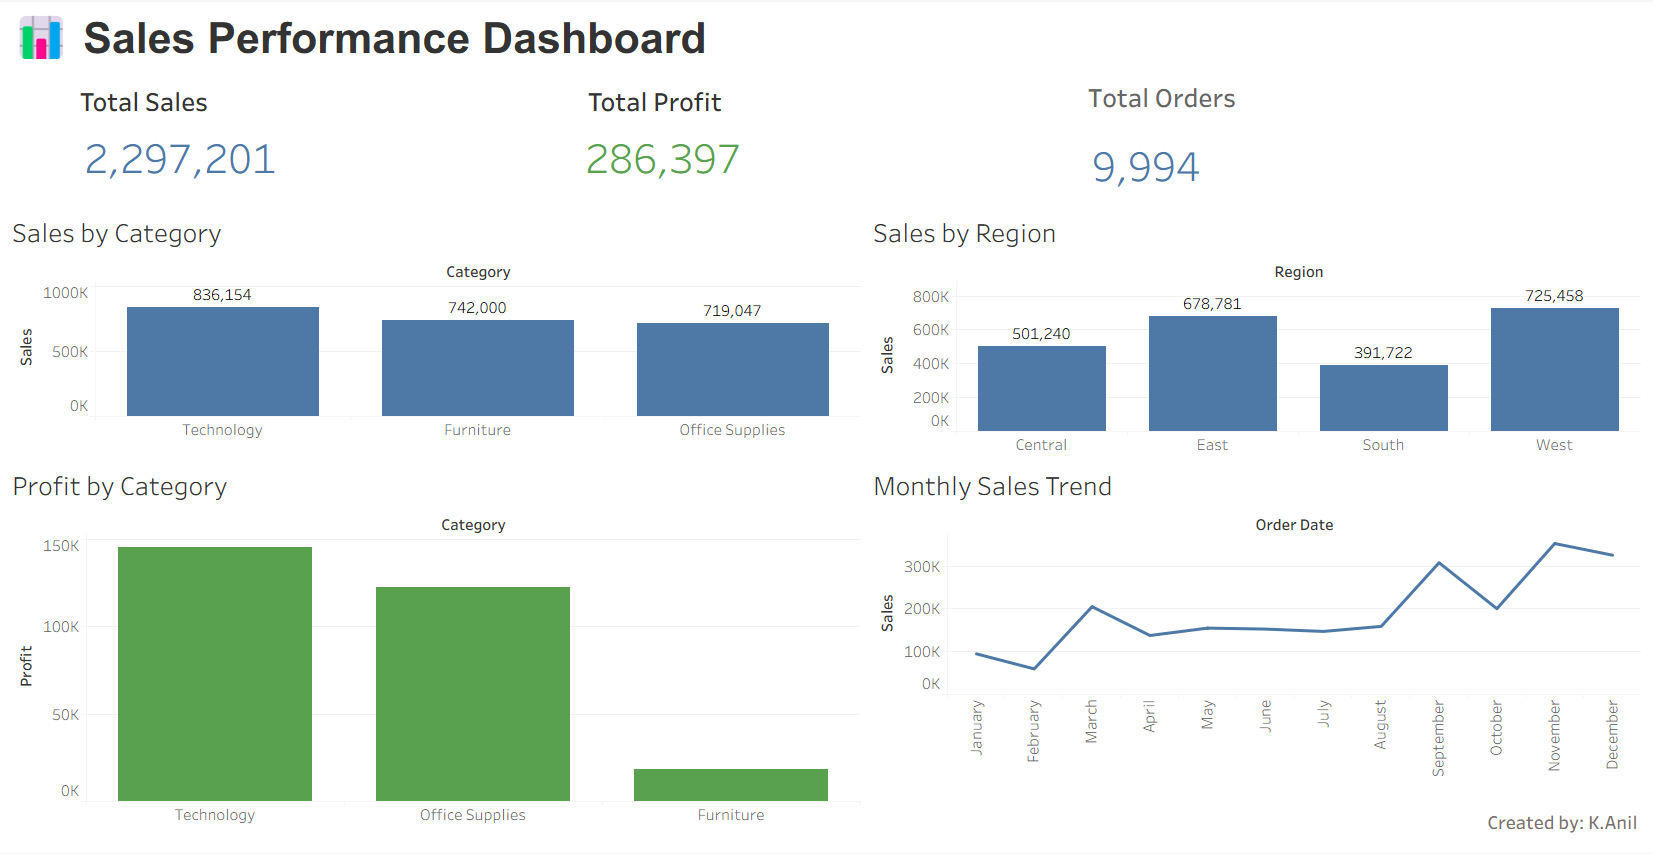

The dashboard page shown, as its layout file describes it:
{"tool":"tableau","page":{"name":"📊 Sales Performance Dashboard","canvas":[1000,1000],"units":"permille","ordinal":0},"visuals":[{"type":"title","box":[4.8,9.4,990.3,58.8]},{"type":"worksheet","title":"Total Sales","mark":"Automatic","box":[4.8,68.2,336.2,181]},{"type":"worksheet","title":"Total Profit","mark":"Automatic","box":[341,68.2,307.2,181]},{"type":"worksheet","title":"Total Orders","mark":"Automatic","box":[648.2,68.2,347,181]},{"type":"worksheet","title":"Sales by Category","mark":"Automatic","rows":["Sales"],"cols":["Category"],"box":[4.8,249.1,519.6,280.2]},{"type":"worksheet","title":"Sales by Region","mark":"Automatic","rows":["Sales"],"cols":["Region"],"box":[524.4,249.1,470.7,279.7]},{"type":"worksheet","title":"Monthly Sales Trend","mark":"Automatic","rows":["Sales"],"cols":["Order Date"],"box":[524.4,528.8,470.7,405.4]},{"type":"worksheet","title":"Profit by Category","mark":"Automatic","rows":["Profit"],"cols":["Category"],"box":[4.8,529.3,519.6,461.3]},{"type":"text","box":[524.4,934.2,470.7,56.4]}]}

Visuals, with their boxes on the dashboard's canvas, which has no fixed pixel size, in thousandths of its width and height (x1, y1, x2, y2). These are canvas units, not pixel positions in the 1653x854 screenshot, which may show the page scaled, cropped or inside an application window:
title: 5,9,995,68
"Total Sales" worksheet: 5,68,341,249
"Total Profit" worksheet: 341,68,648,249
"Total Orders" worksheet: 648,68,995,249
"Sales by Category" worksheet: 5,249,524,529
"Sales by Region" worksheet: 524,249,995,529
"Monthly Sales Trend" worksheet: 524,529,995,934
"Profit by Category" worksheet: 5,529,524,991
text: 524,934,995,991
